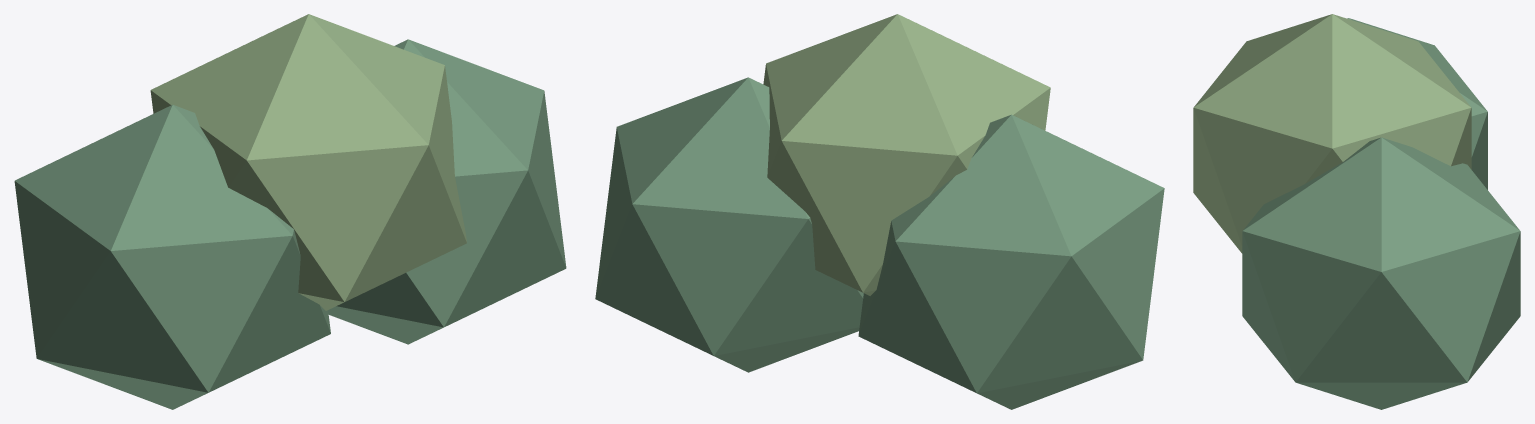
File: bush.glb
3 views of the same model, side by side, from view 1: azimuth 30°, elevation 25°; view 2: azimuth 150°, elevation 25°; view 3: azimuth 270°, elevation 25° (orthographic). The views are drawn at different scales.
Parts seen in each view (by area): view 1: CITY_bush; view 2: CITY_bush; view 3: CITY_bush.
Part boxes in pixels (bbox=[...]): CITY_bush: bbox=[14, 14, 566, 409]; CITY_bush: bbox=[595, 14, 1164, 409]; CITY_bush: bbox=[1193, 14, 1520, 409].
Bounding box in the file's own units: 1.66 × 1.15 × 1.
